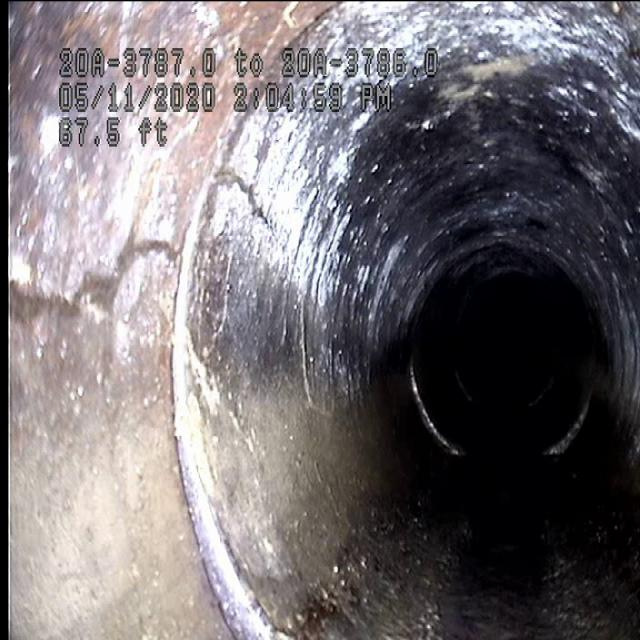Crack: (16, 170, 272, 348)
